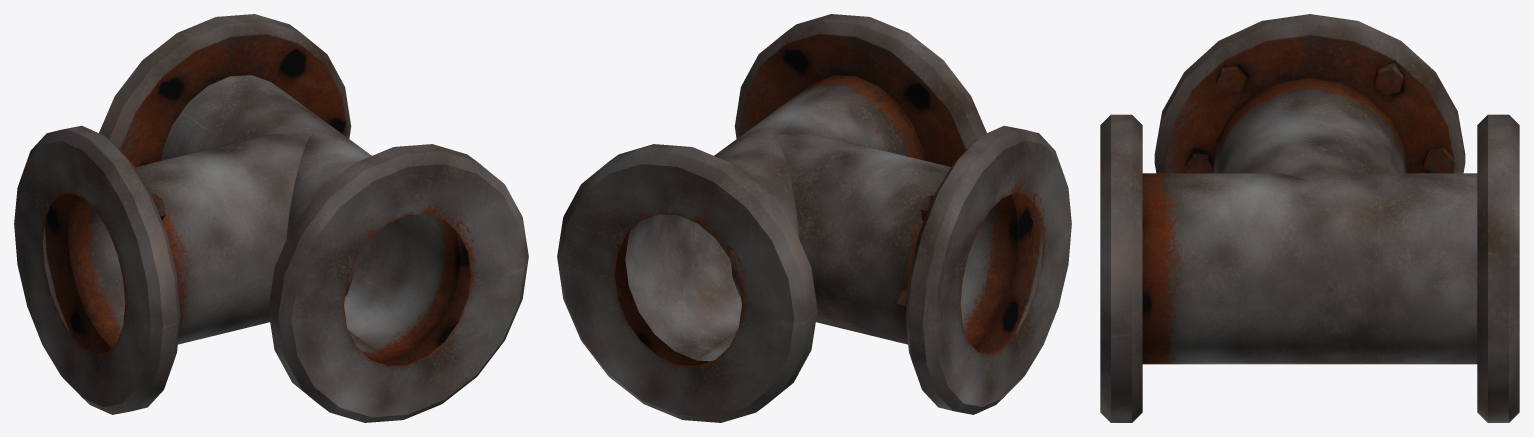
File: metalpipe T CURVE.fbx
3 renders of one model, left to right at view 1: azimuth 30°, elevation 25°; view 2: azimuth 150°, elevation 25°; view 3: azimuth 270°, elevation 25°, orthographic. The views are drawn at different scales.
Parts seen in each view (by area): view 1: metalpipe-cut; view 2: metalpipe-cut; view 3: metalpipe-cut.
Part boxes in pixels (x1=…): metalpipe-cut: x1=14, y1=14, x2=528, y2=422; metalpipe-cut: x1=557, y1=14, x2=1071, y2=422; metalpipe-cut: x1=1100, y1=14, x2=1519, y2=422.
Size of the model in its own units: 2.08 by 1.5 by 2.02.
